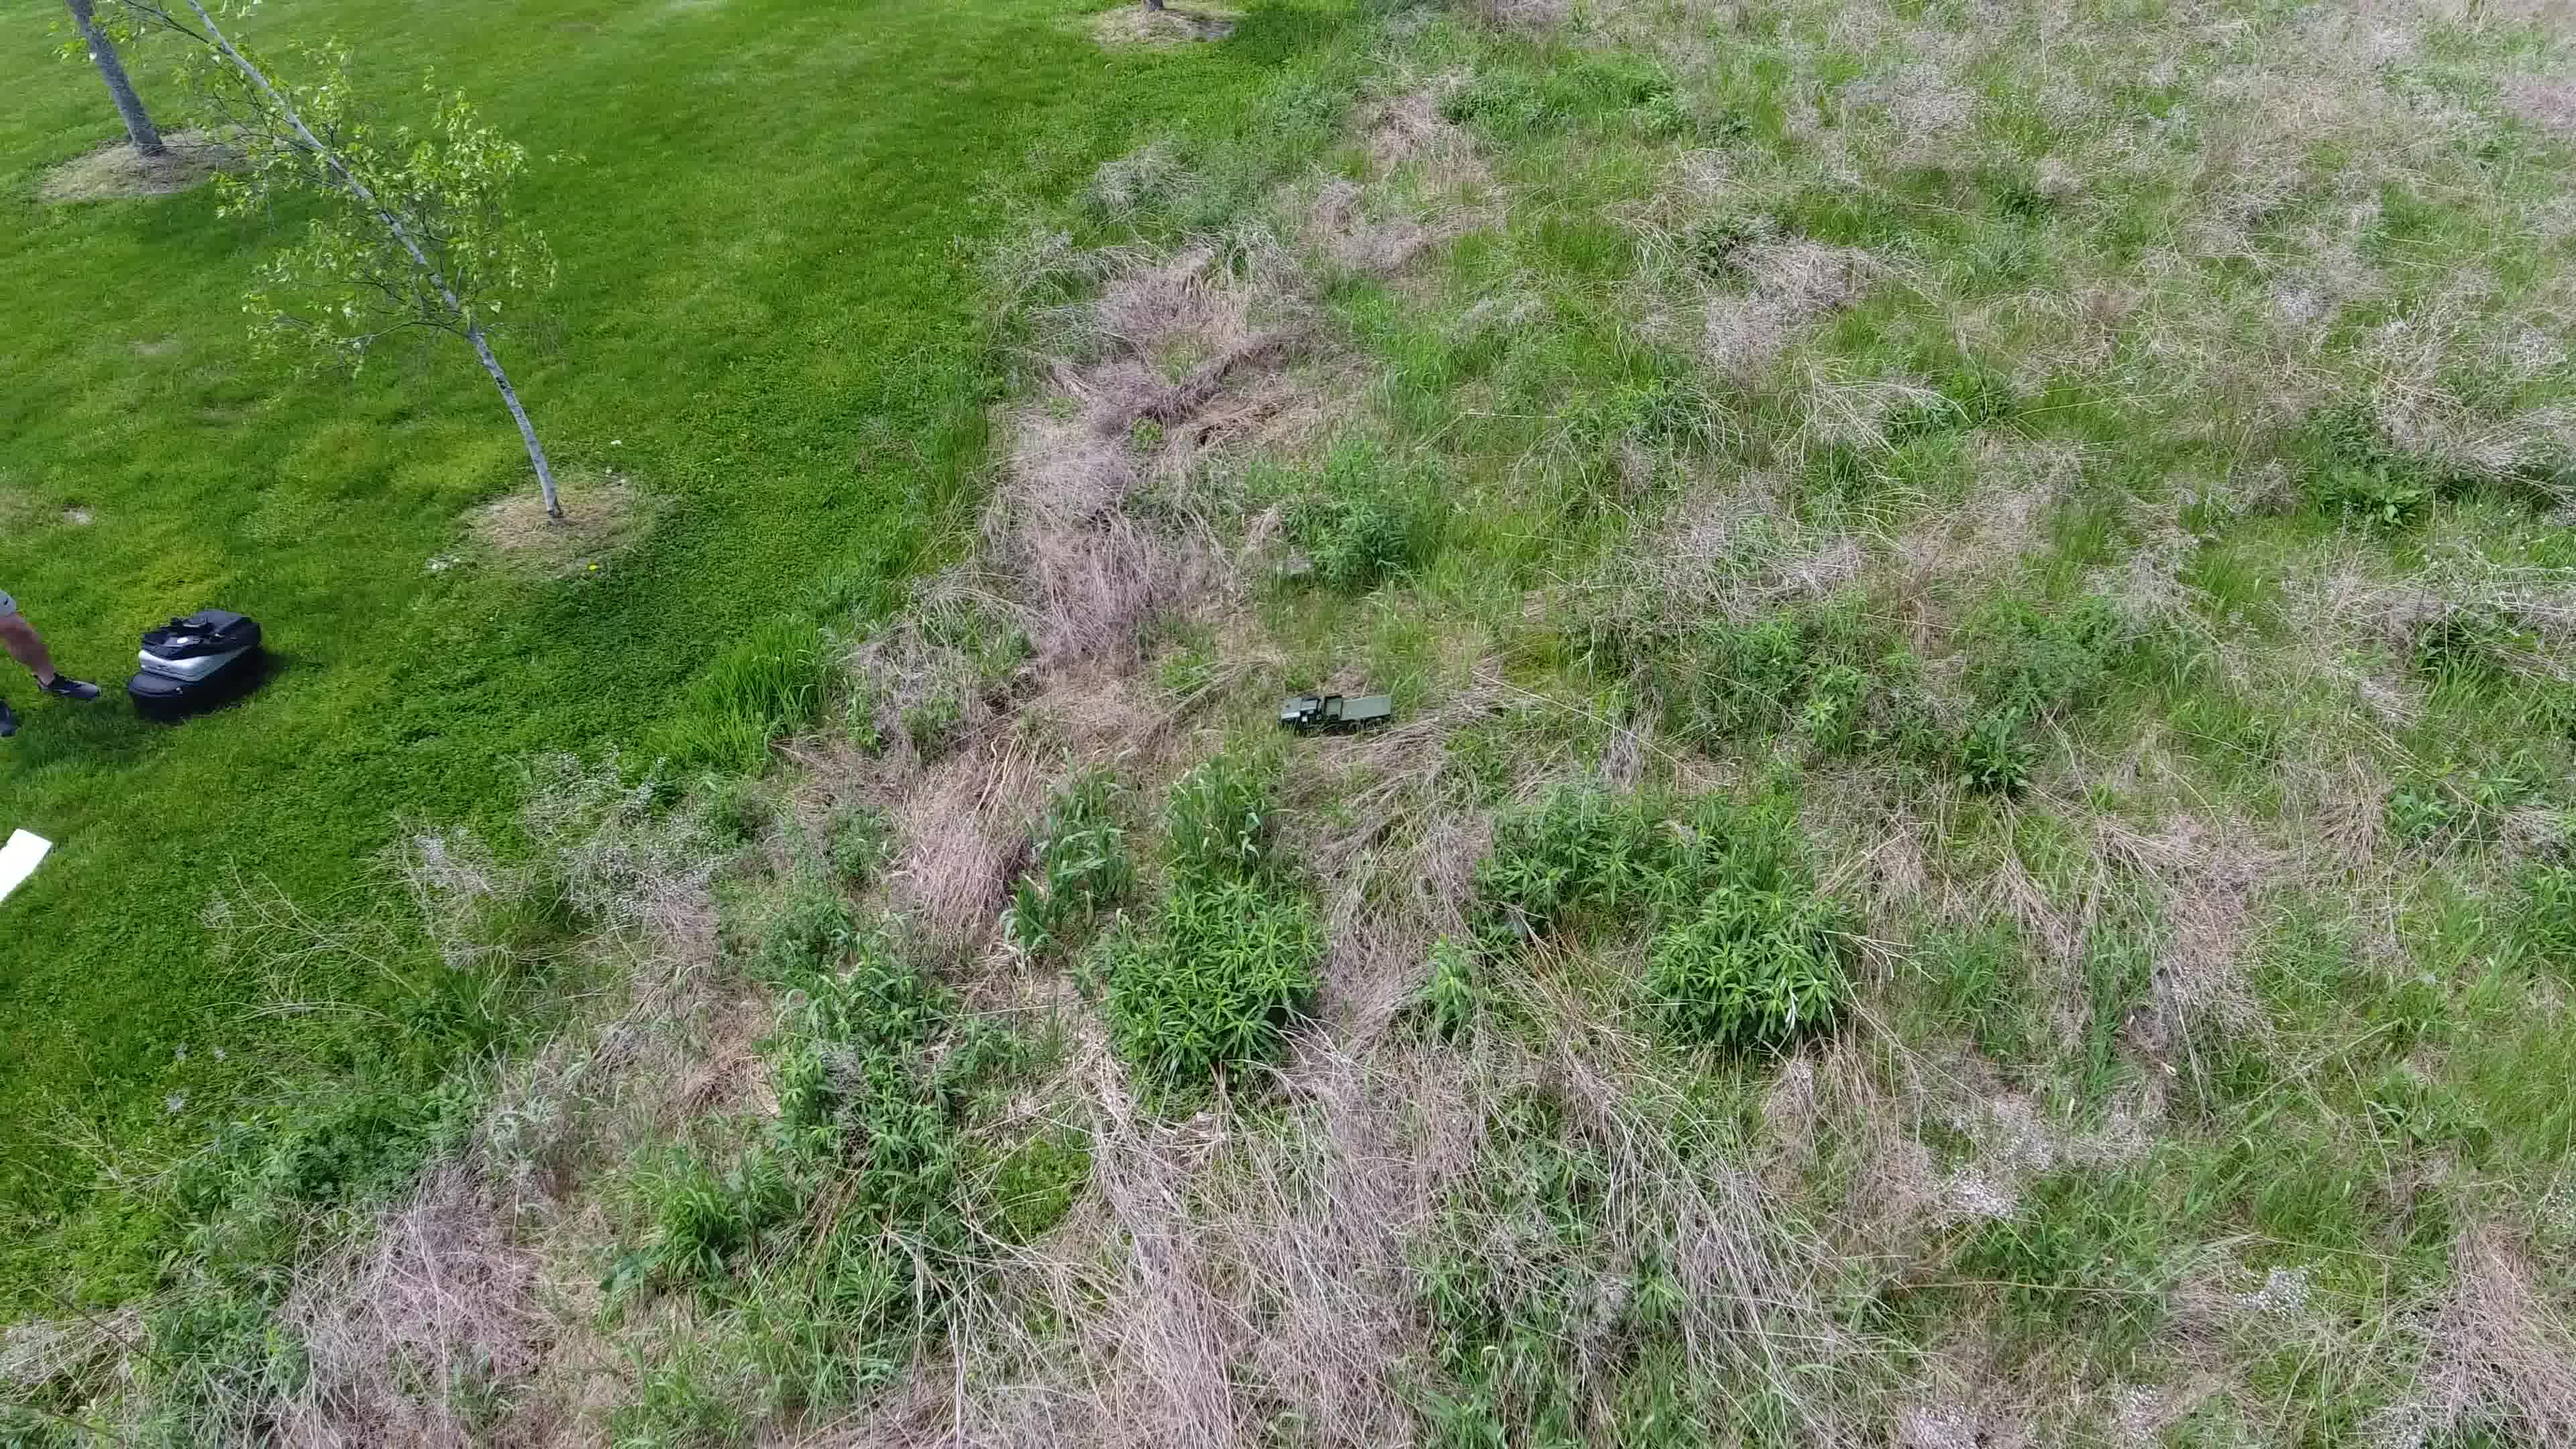transporter9: (1274, 688, 1396, 736)
